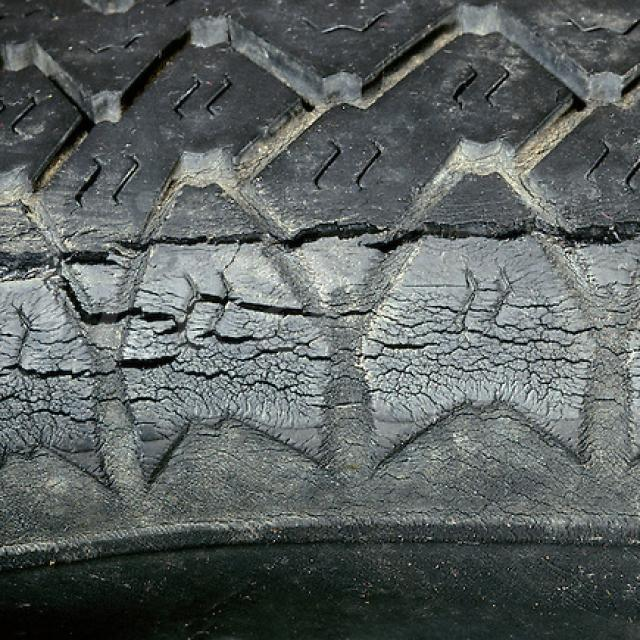Cracks: (0, 159, 639, 576)
